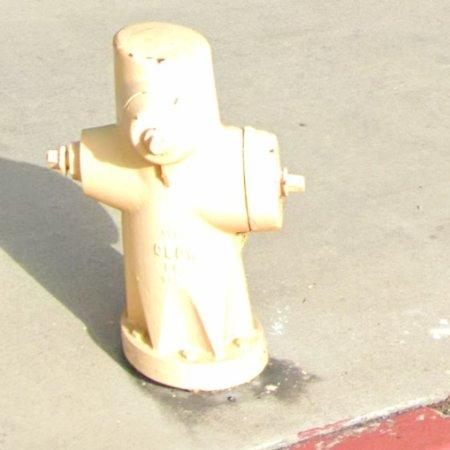a fire hydrant: (47, 22, 305, 392)
